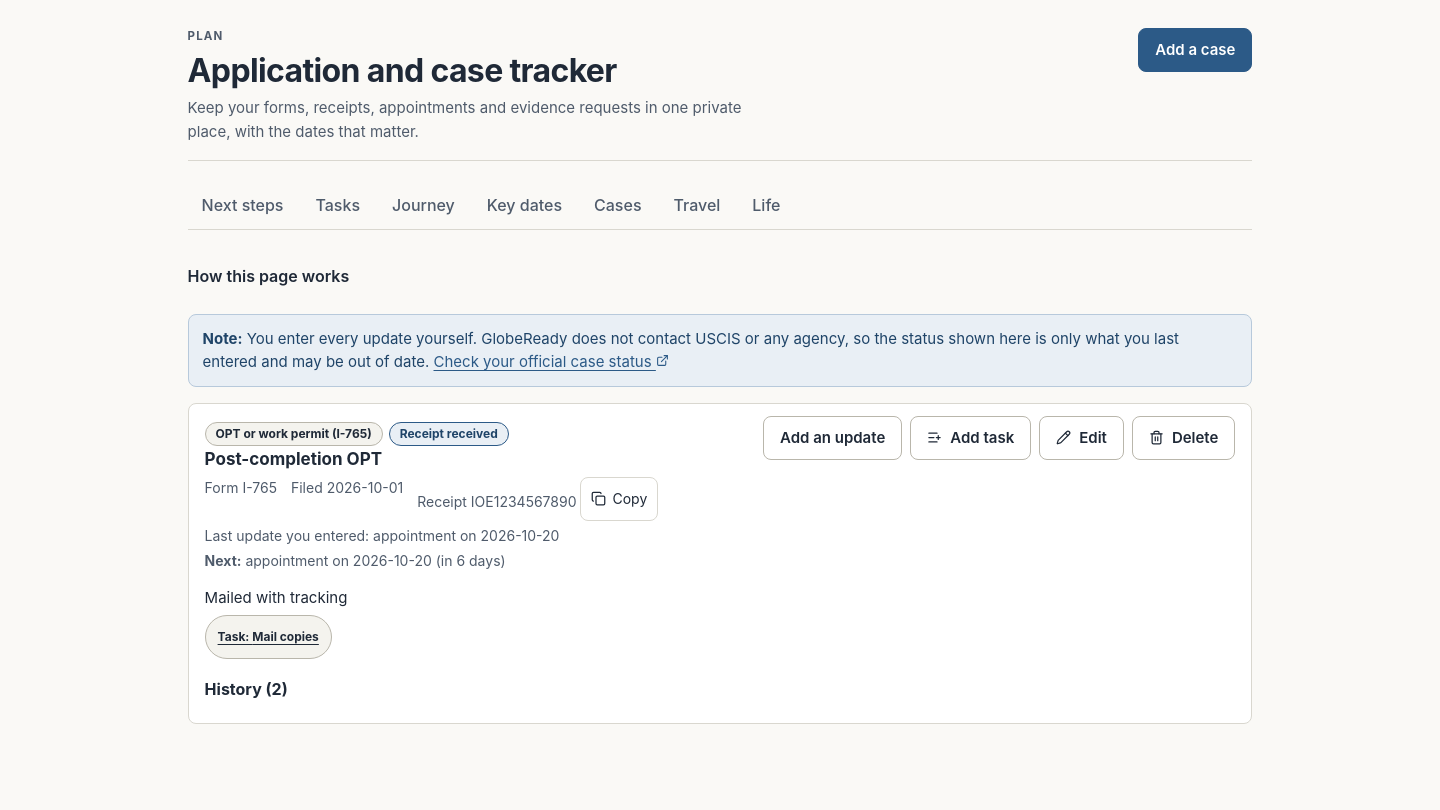
Test: CasesPage › adds a follow-up task connected to the case and shows linked tasks
The width and height of the screenshot is (1440, 810).
Check: the link "Task: Mail copies" is shown, box [205,615,332,659]
What coordinates should you click on to do the following:
click the button with aria-label "Add a follow-up task for Post-completion OPT"
I would click on:
 (971, 438)
Its box is [910,416,1031,460].
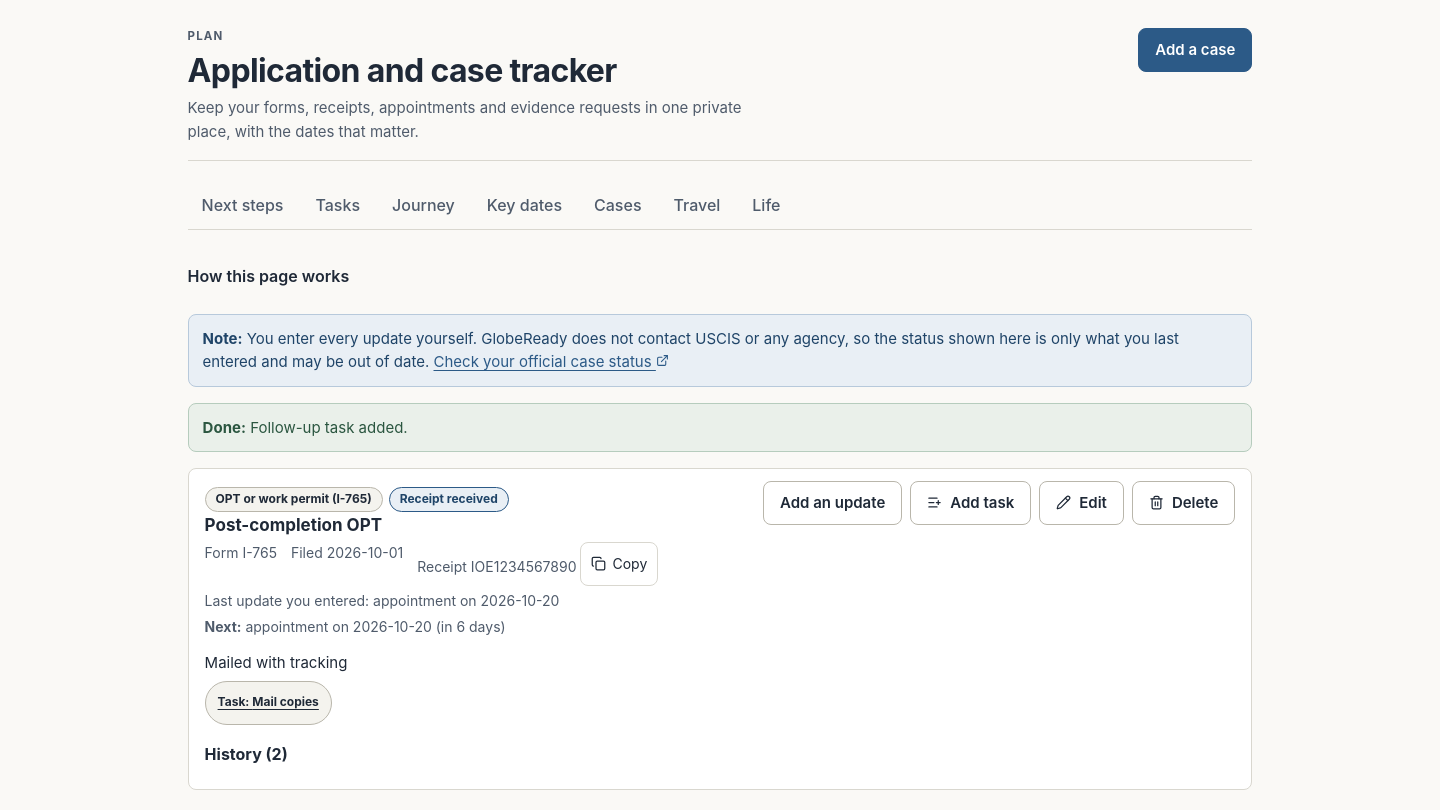
Check: the text "Follow-up task added." is shown, box [250,418,408,437]
